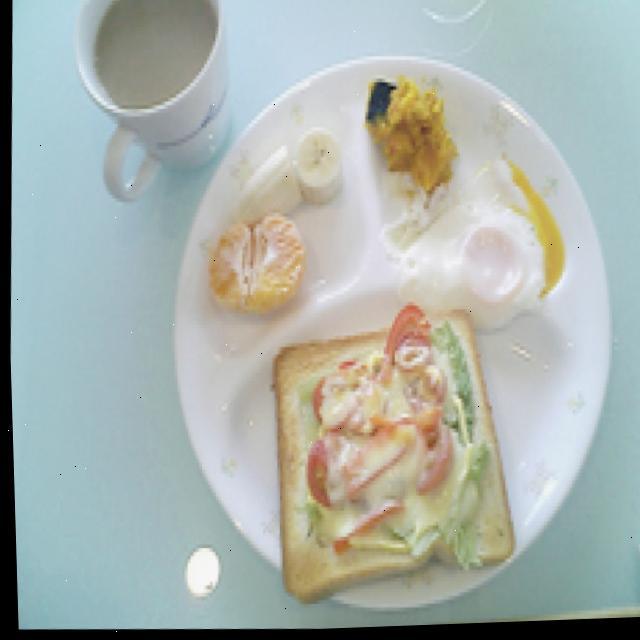面包点心: (250, 298, 546, 625)
